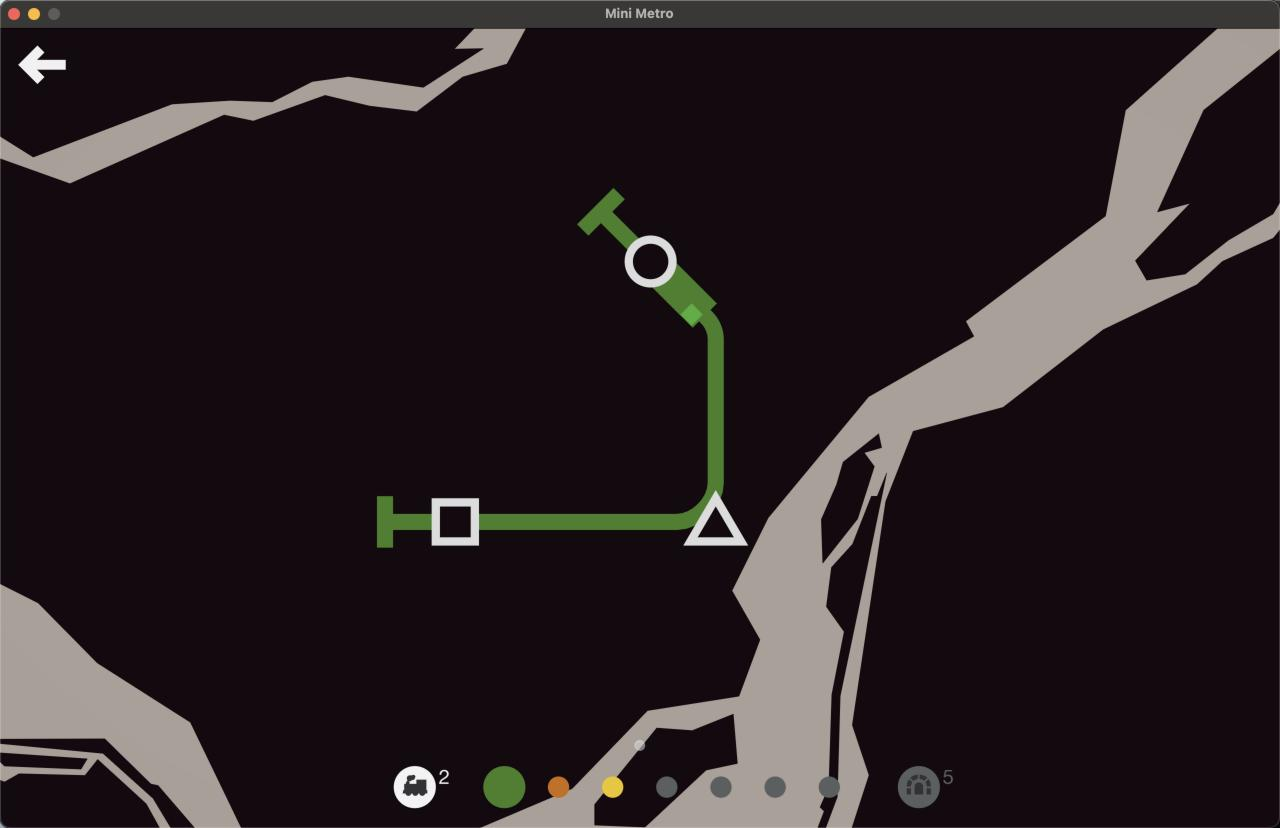CIRCLE: (623, 234, 678, 287)
SQUARE: (431, 497, 480, 547)
TRIANGLE: (683, 488, 750, 547)
